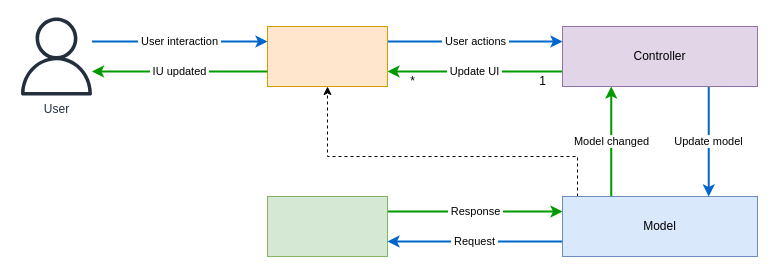
This 775x274 diagram has some shape labels left out. Here are the shapes that lost their labels. From the top down, the box of each, then its label:
(266, 26, 388, 86): View
(266, 196, 388, 256): API / DB (optional)
